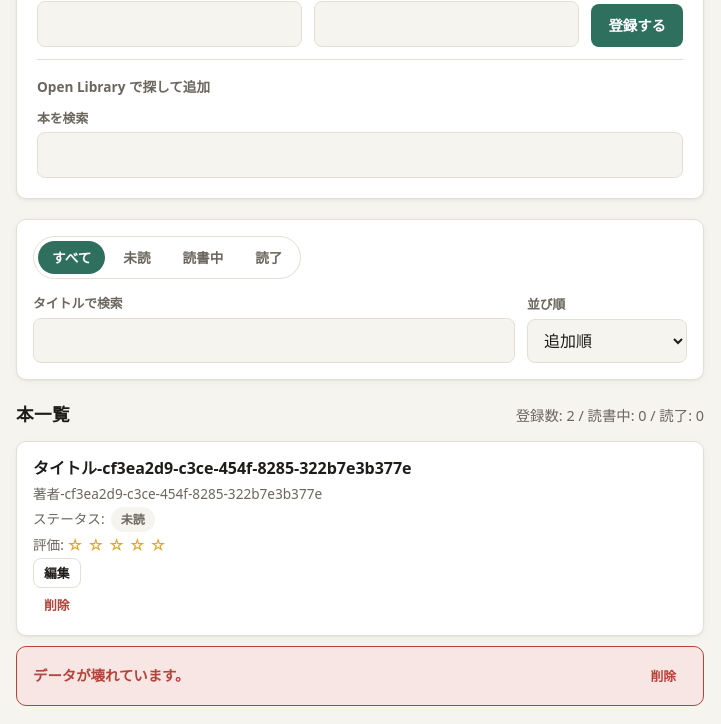
Test case: BookList › エラーが起きている本を削除できる
(page scrolled)
Click the button "削除" in the row of "データが壊れています。": point(663, 676) [639, 661, 687, 691]
(page scrolled)
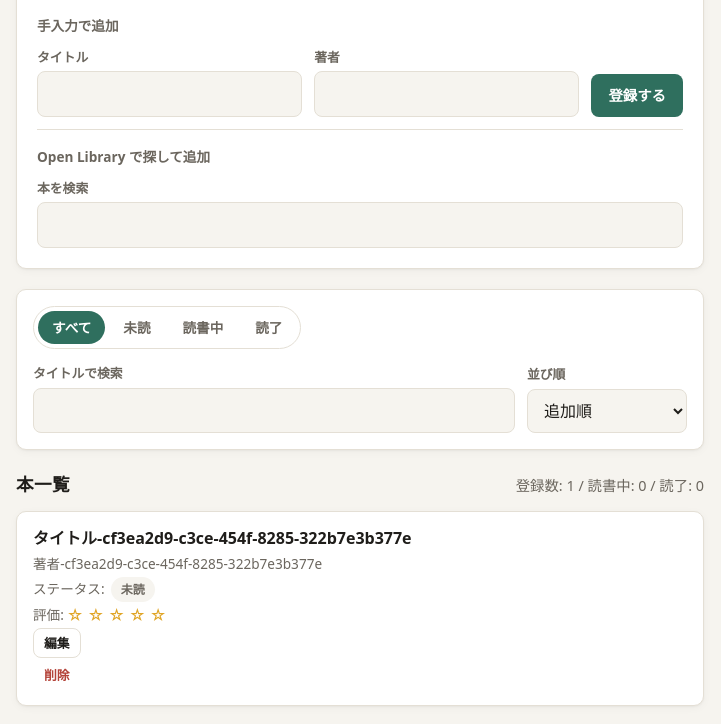
Expected: the 5th list item is shown, [16, 510, 704, 706]
Expected: the list item "データが壊れています。 削除" is gone
Expected: the text "データが壊れています。" is gone
